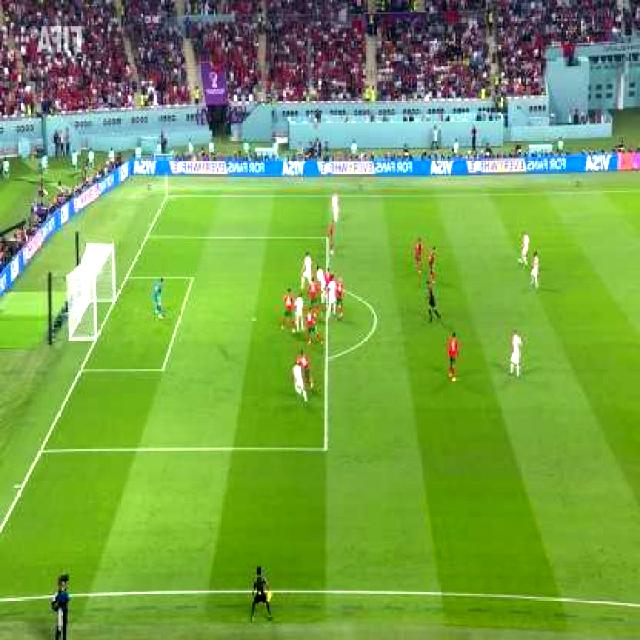bigarea_bottom_inner: (317, 437, 332, 460)
bigarea_bottom_outter: (36, 443, 44, 460)
bigarea_top_inner: (325, 232, 329, 243)
bigarea_top_outter: (143, 231, 149, 243)
bottom_arc_area_intersection: (322, 349, 332, 368)
corner: (163, 192, 171, 200)
smallarea_bottom_inner: (155, 357, 171, 380)
smallarea_bottom_outter: (76, 361, 86, 377)
smallarea_top_inner: (186, 269, 199, 288)
smallarea_top_outter: (121, 271, 132, 283)
